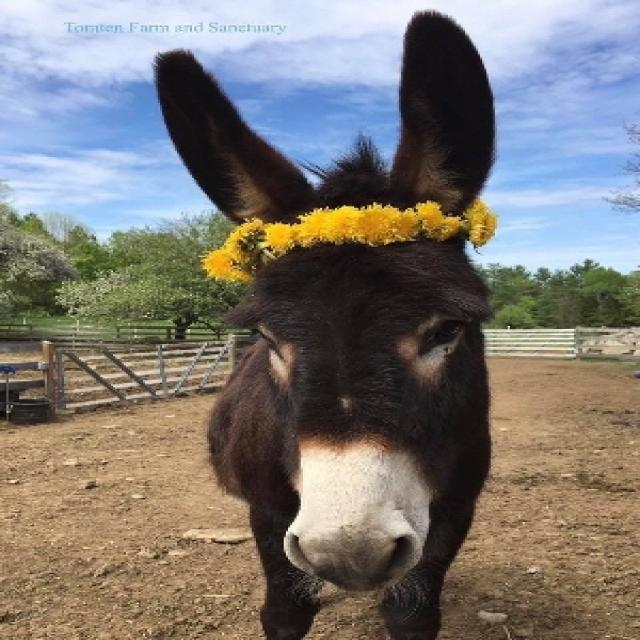Donkey: (156, 9, 494, 640)
